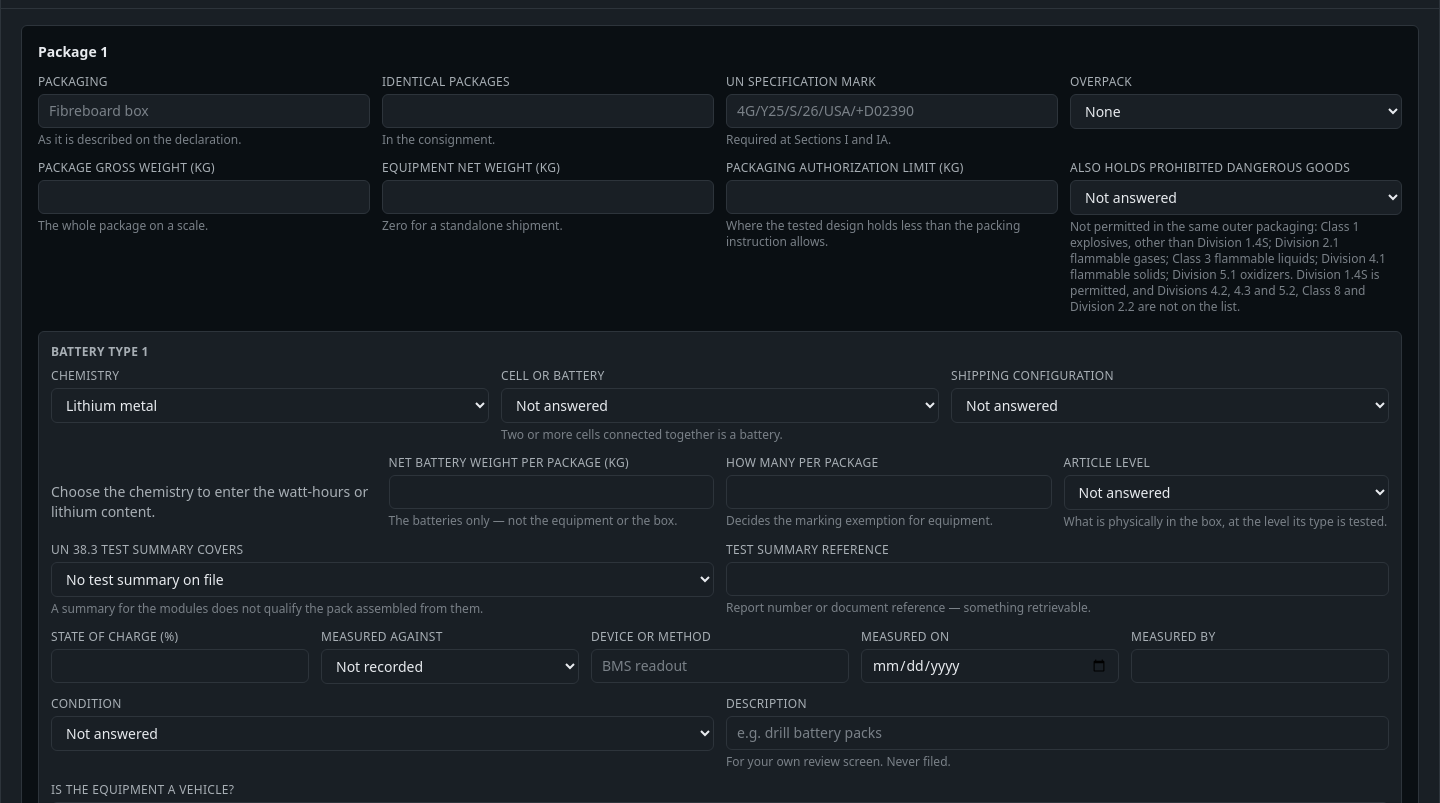
Scenario: a battery type nobody has described yet › classifies once all five are answered
(page scrolled)
Select "Lithium metal" in the dropdown labelled "Chemistry" at {"x": 270, "y": 406}, box x1=51 y1=388 x2=489 y2=423
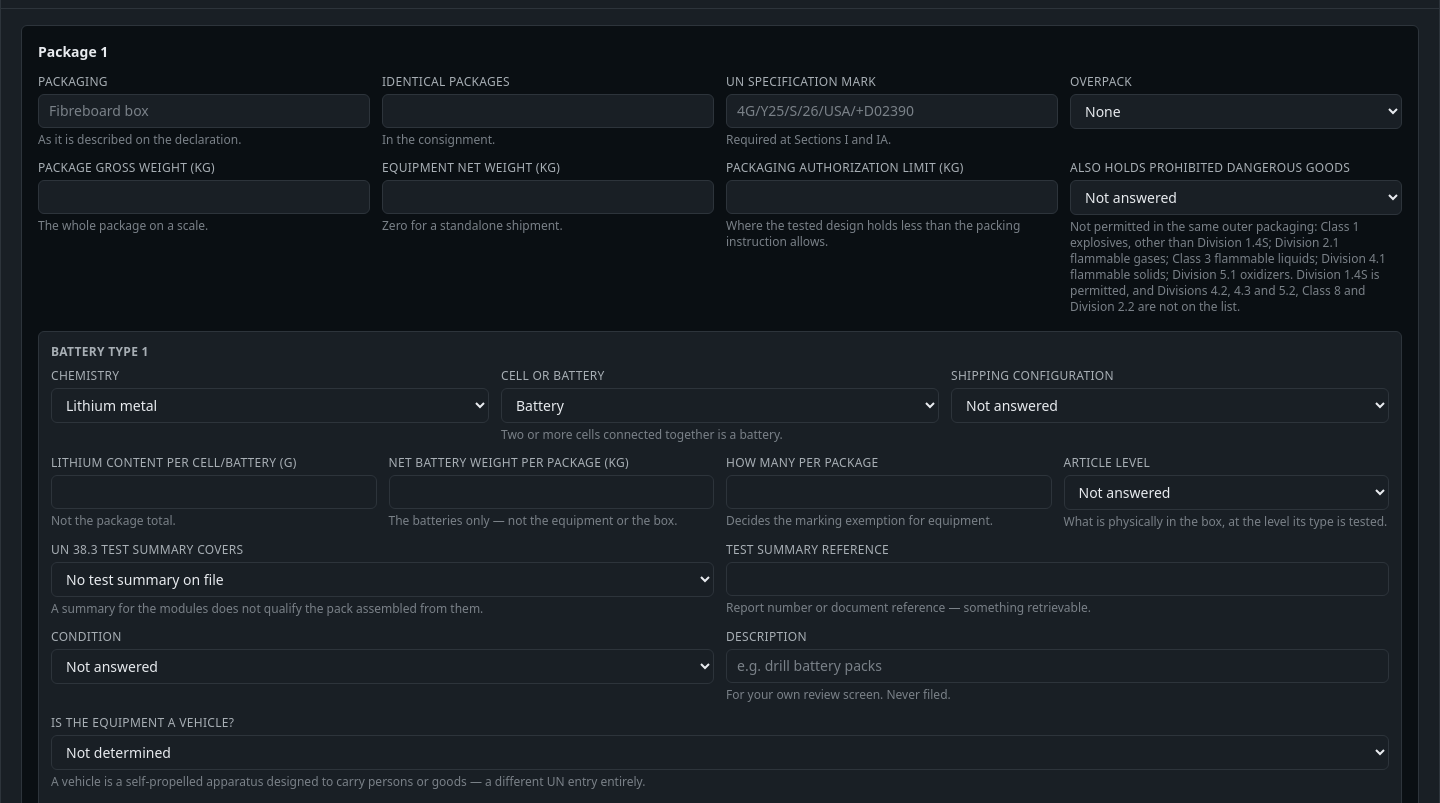
Select "Battery" in the dropdown labelled "Cell or battery" at {"x": 720, "y": 406}, box x1=501 y1=388 x2=939 y2=423
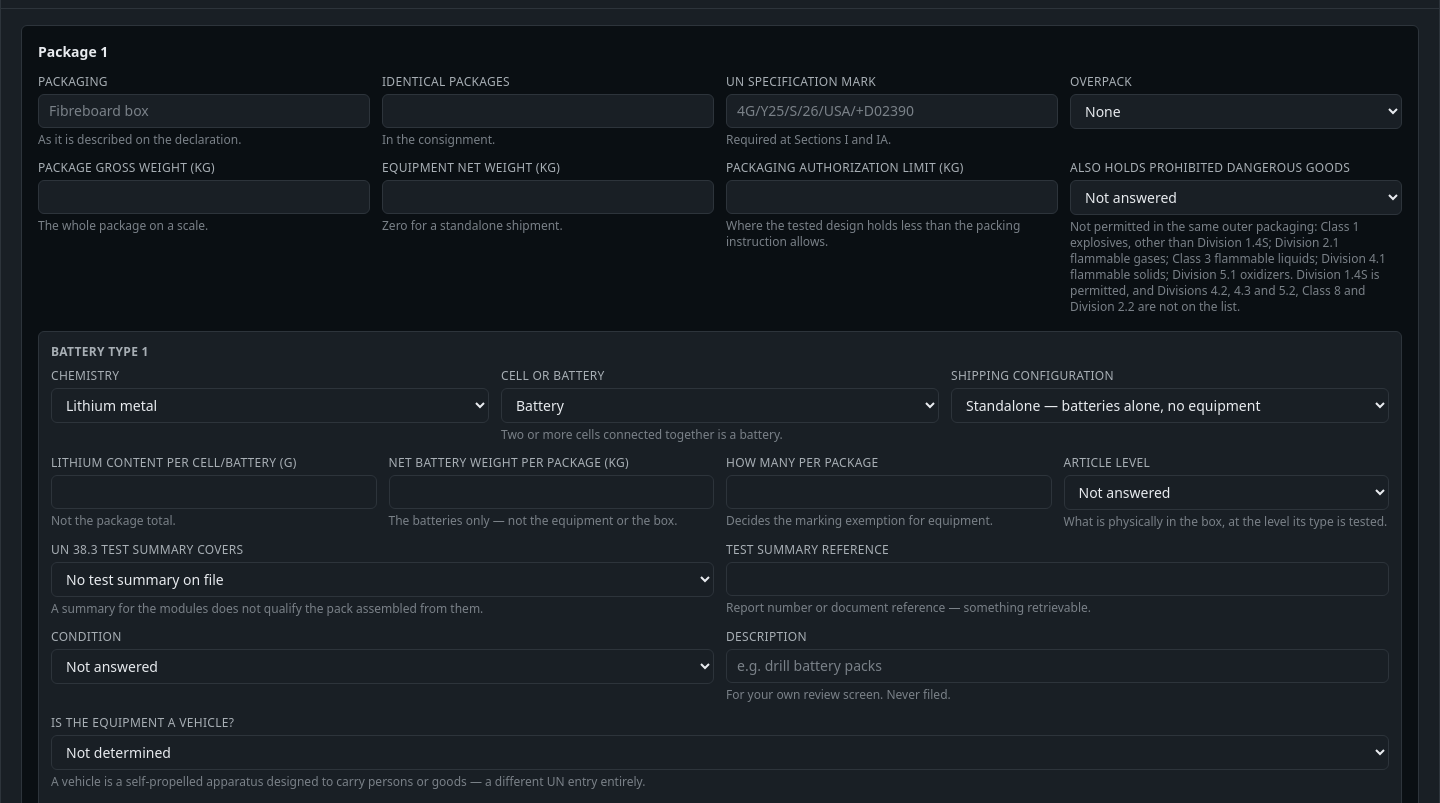
Select "Standalone — batteries alone, no equipment" in the dropdown labelled "Shipping configuration" at {"x": 1170, "y": 406}, box x1=951 y1=388 x2=1389 y2=423
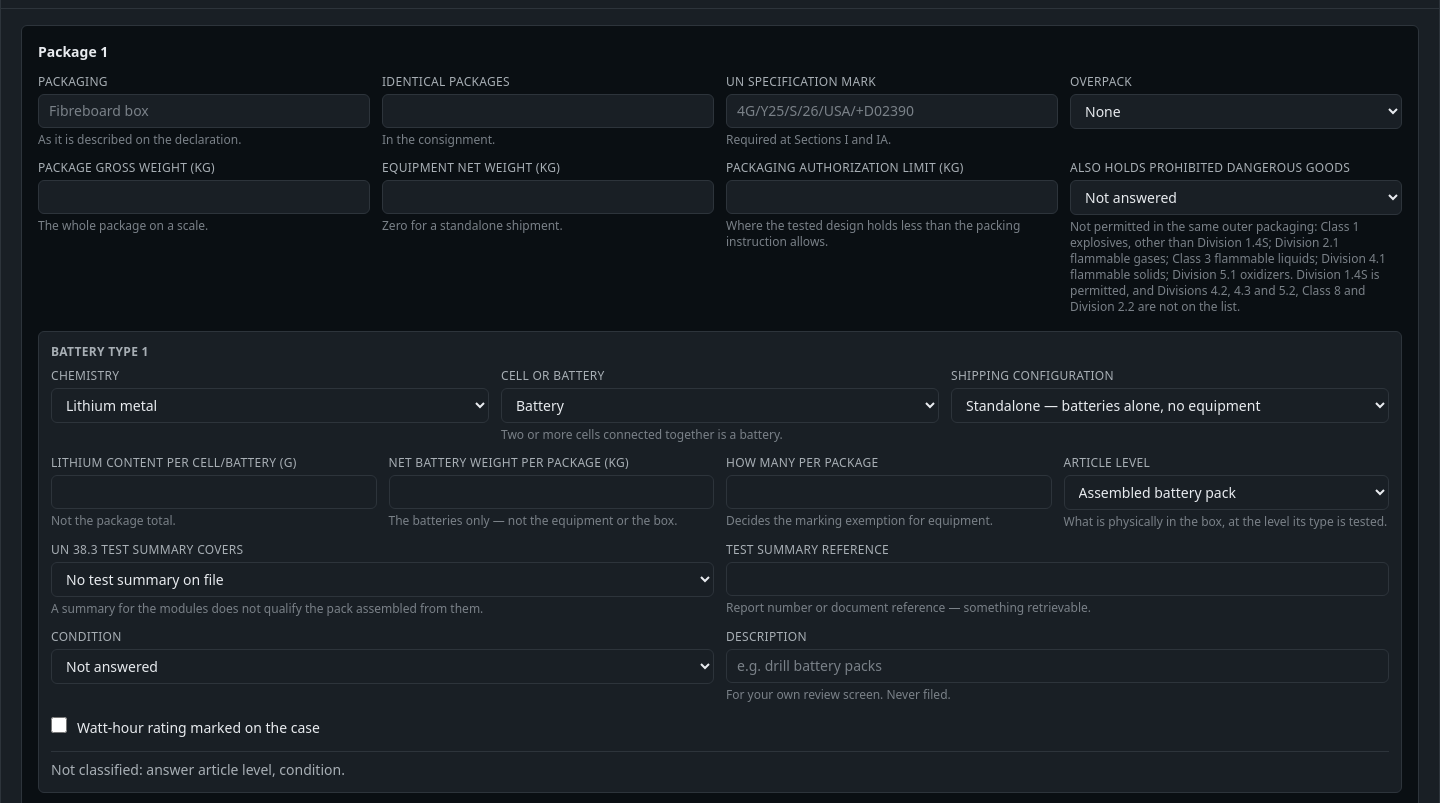
Select "Assembled battery pack" in the dropdown labelled "Article level" at {"x": 1226, "y": 492}, box x1=1064 y1=475 x2=1389 y2=510
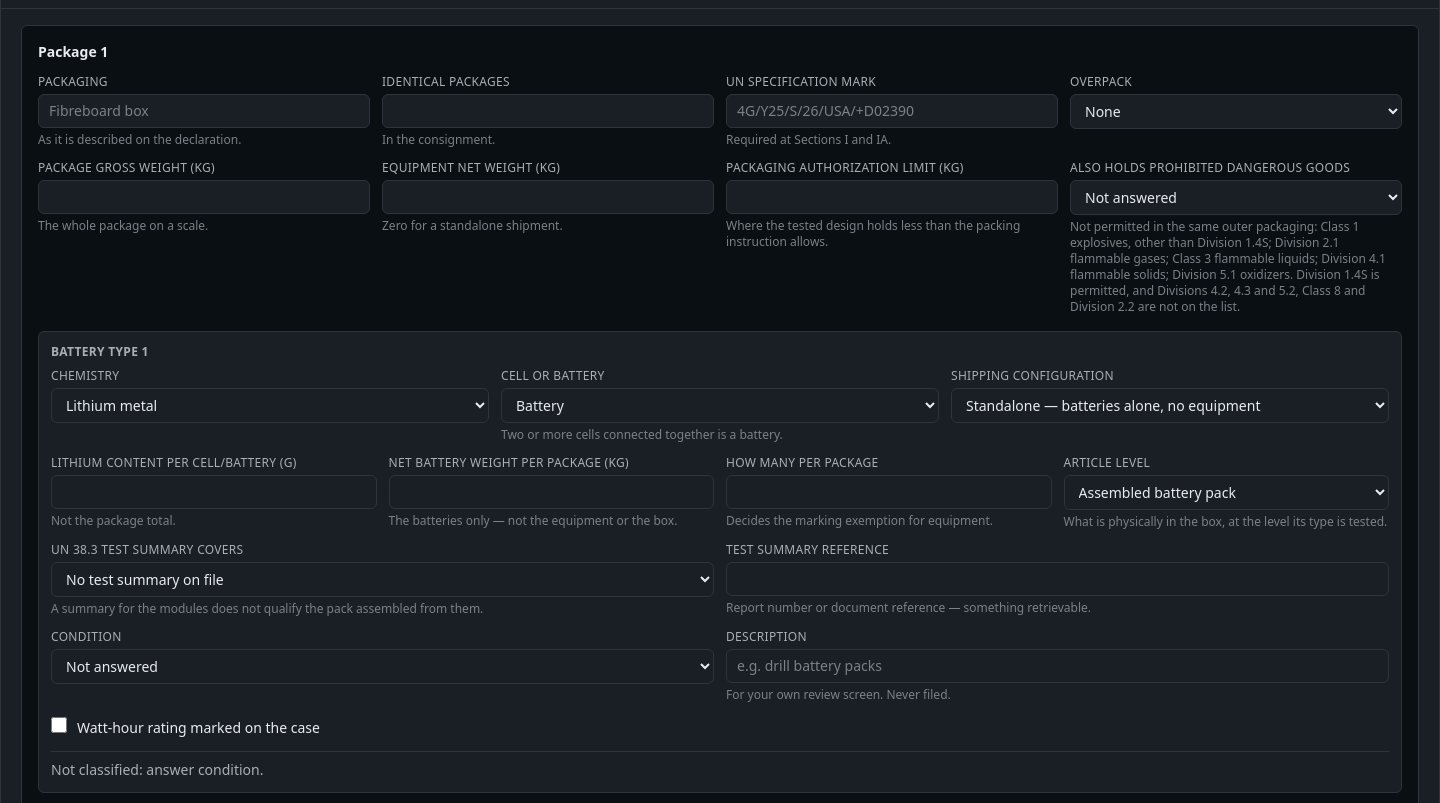
Select "Standalone — batteries alone, no equipment" in the dropdown labelled "Shipping configuration" at {"x": 1170, "y": 406}, box x1=951 y1=388 x2=1389 y2=423
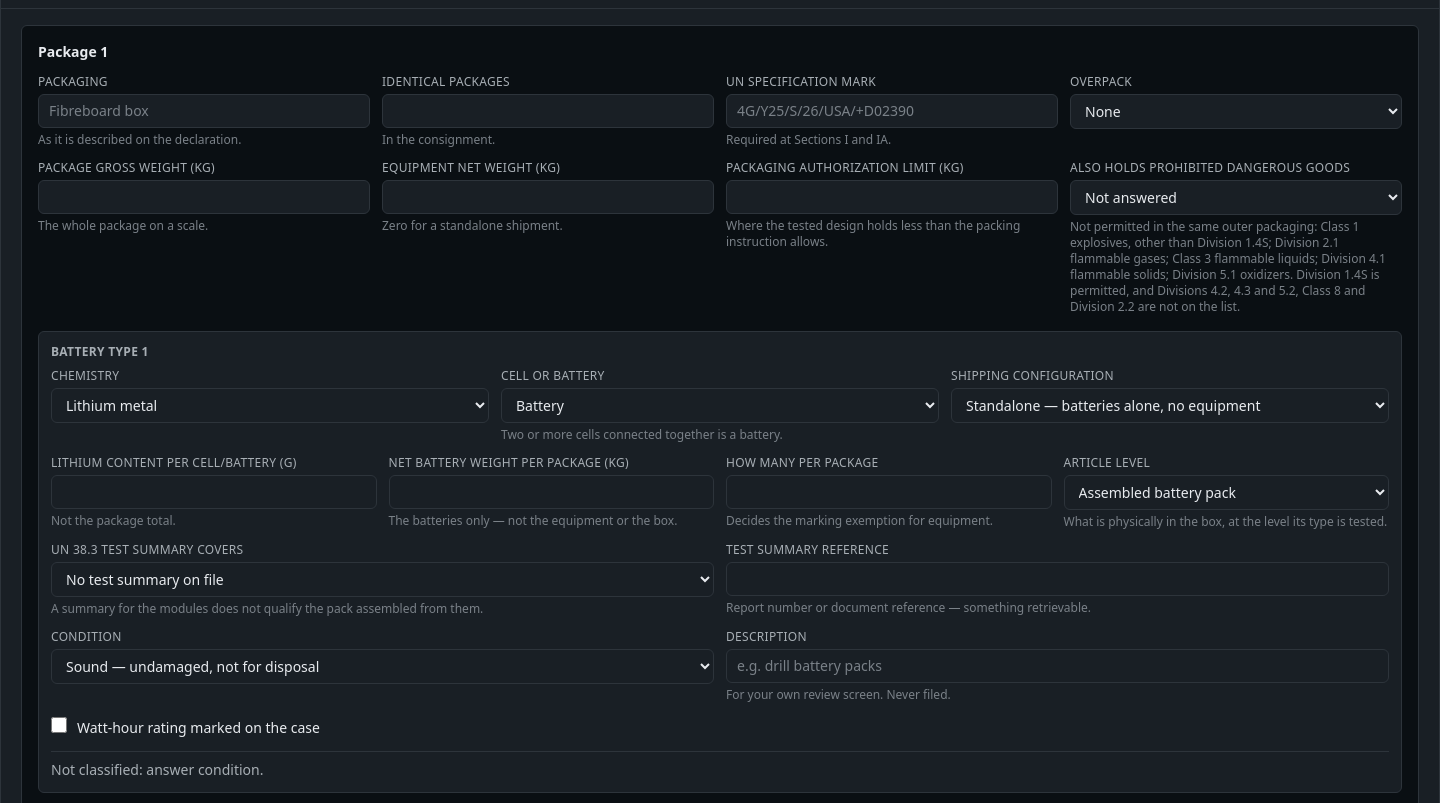
Expected: the text "Not classified: answer condition." is shown, x1=51 y1=751 x2=1389 y2=780
Select "Sound — undamaged, not for disposal" in the dropdown labelled "Condition" at {"x": 382, "y": 666}, box x1=51 y1=649 x2=714 y2=684
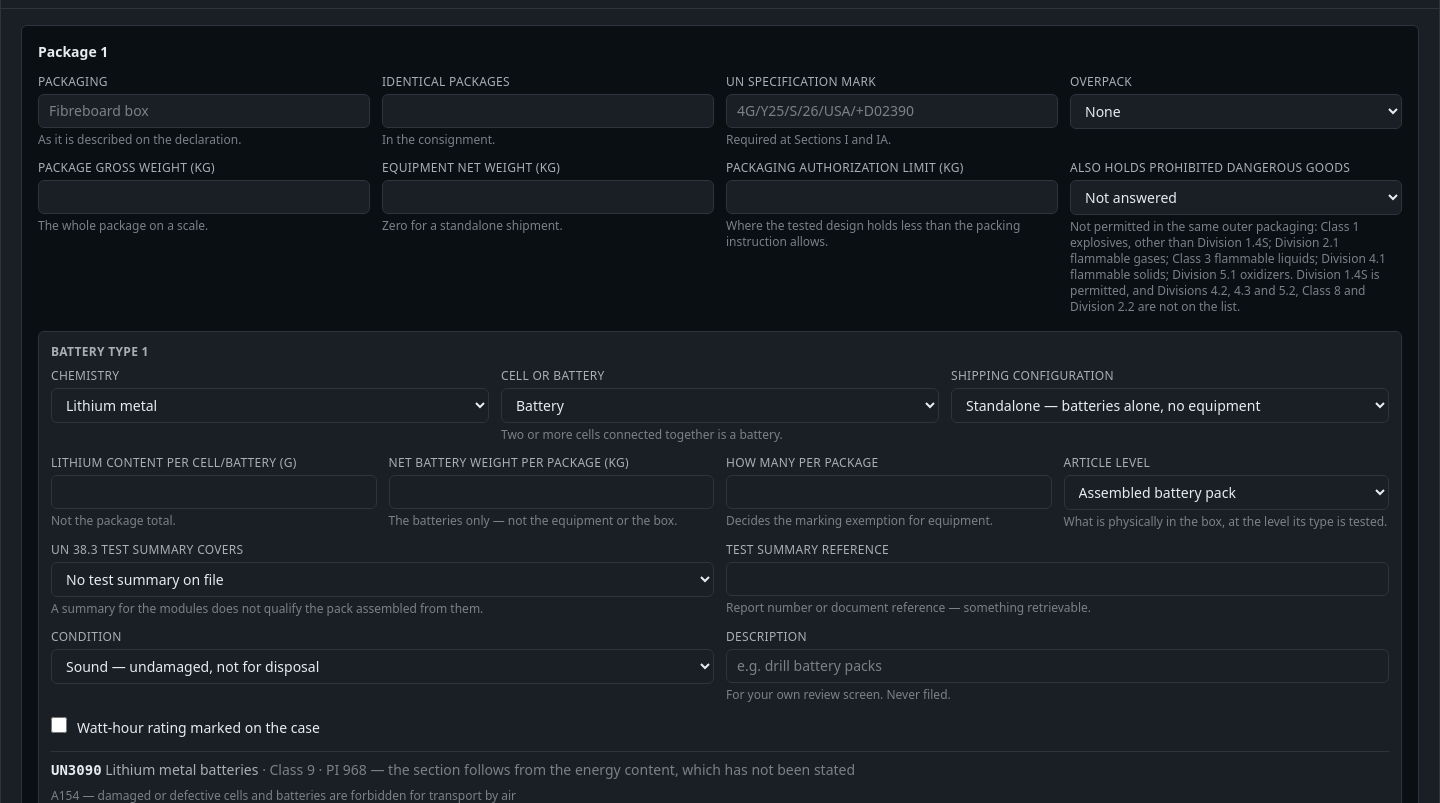
Expected: the text "Not classified" is gone
